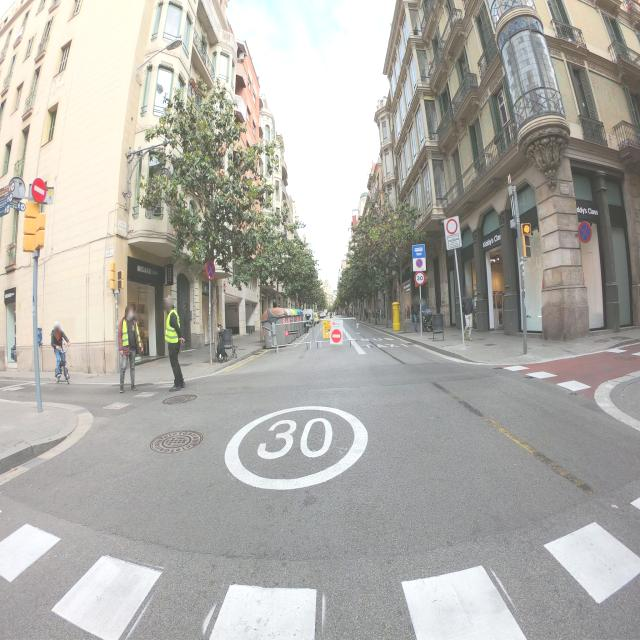car: (303, 309, 315, 328), (313, 312, 319, 324)
